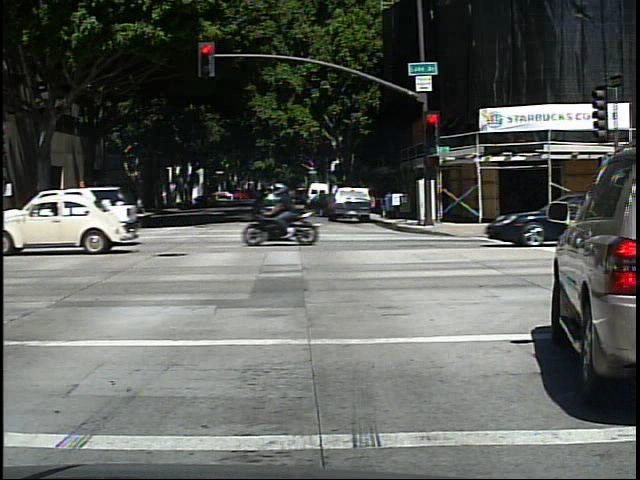person: (279, 178, 318, 239), (61, 190, 72, 224)
